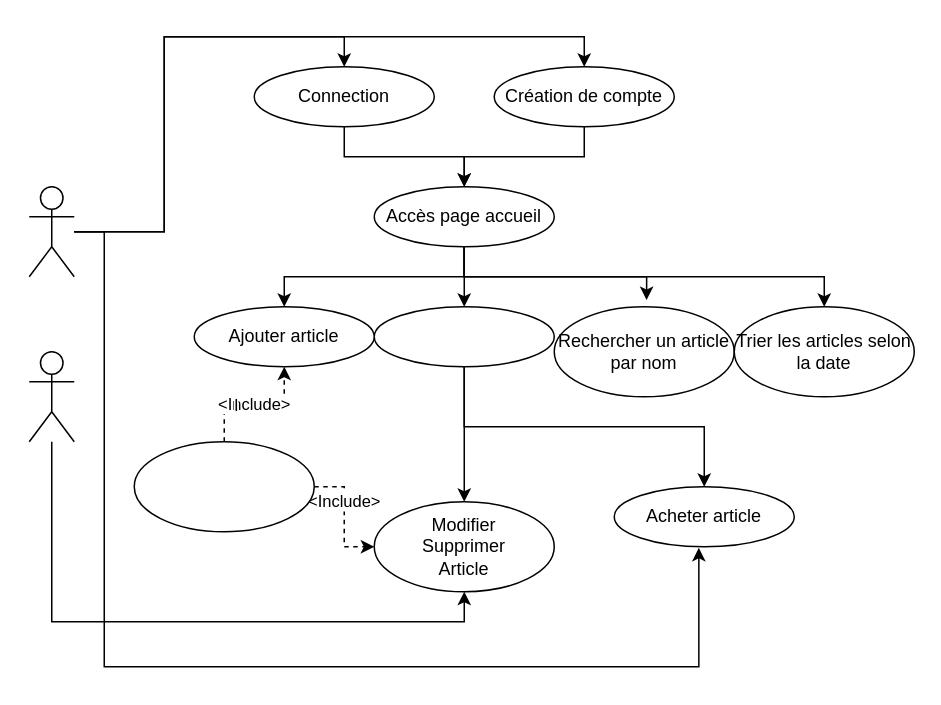
The diagram is 941 pixels wide and 705 high, and some of its shapes have lost their labels. The shapes that lost their labels are listed below. From the top down, each one's centre as x and y in pixels, then its label:
At point 51,231: "Client".
At point 463,336: "Sélectionner article".
At point 51,396: "Admin".
At point 223,486: "Sauvegarder dans la BD".
